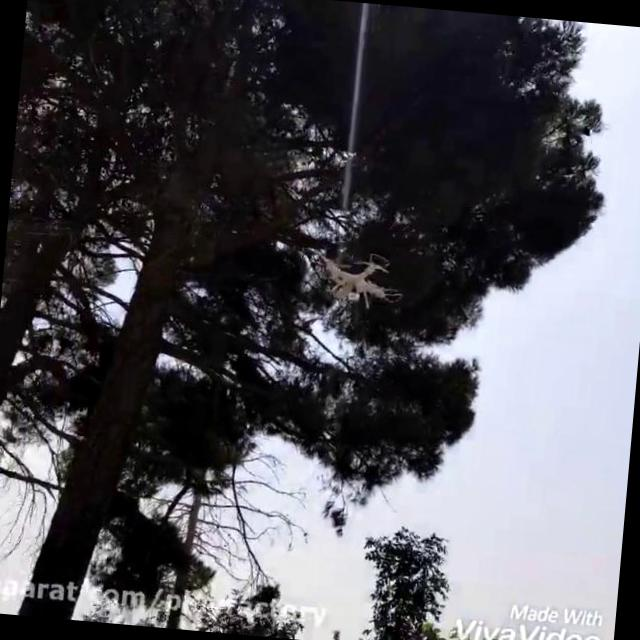drone: (312, 246, 406, 314)
